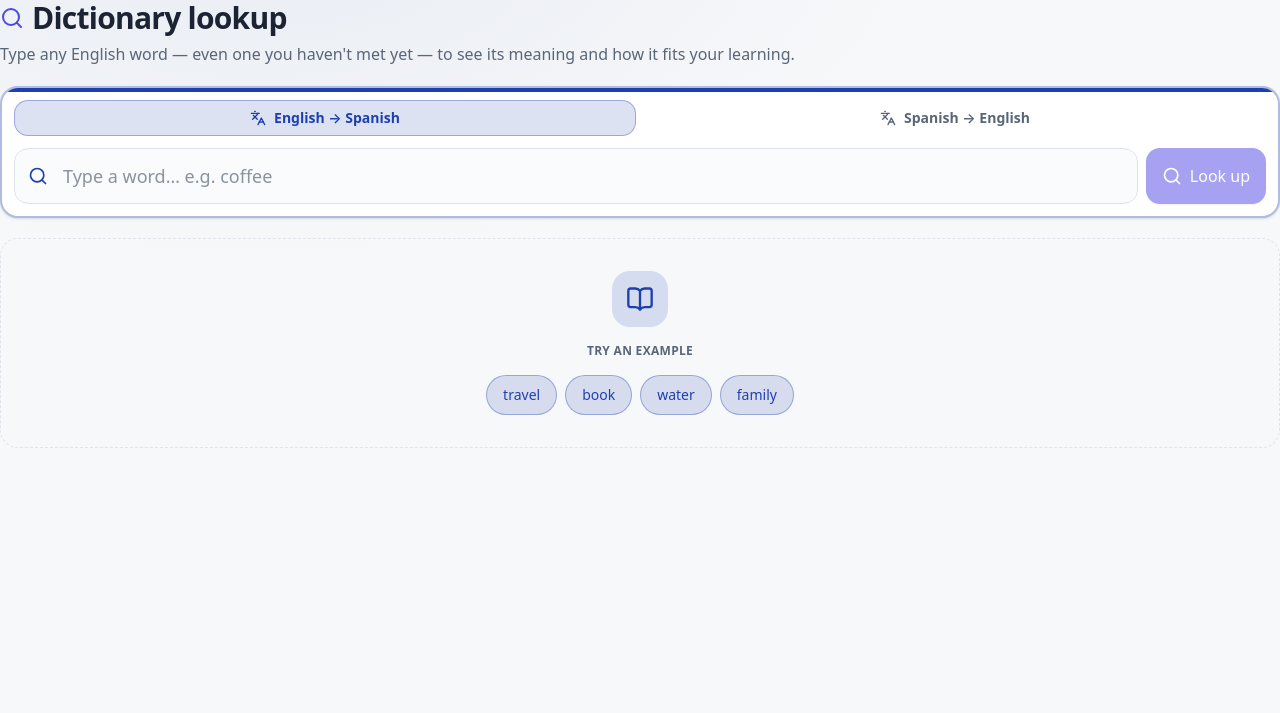
Scenario: DictionaryLookup (V3.30) › el color de la dirección marca el conmutador y la tarjeta del resultado (V3.75.8)
In the field named "Search the dictionary": (576, 176) [14, 148, 1138, 204], type "coffee"
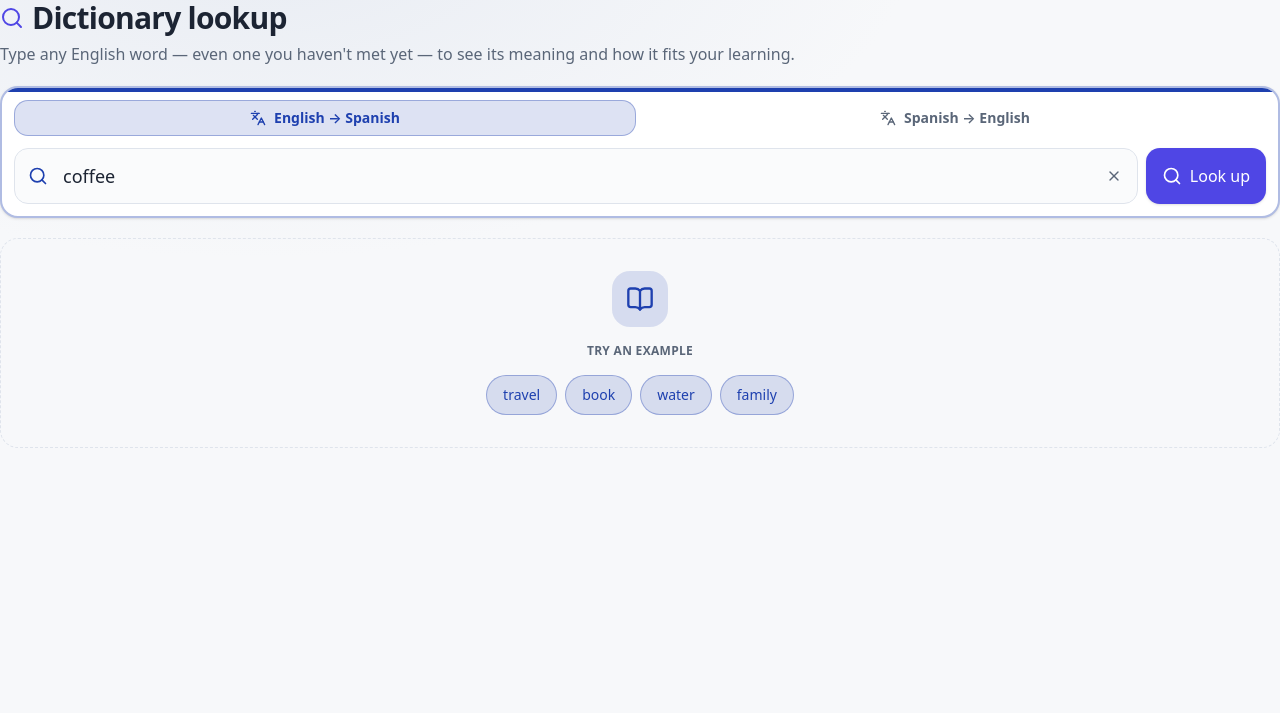
Click the button "Look up": click(1206, 176) [1146, 148, 1266, 204]
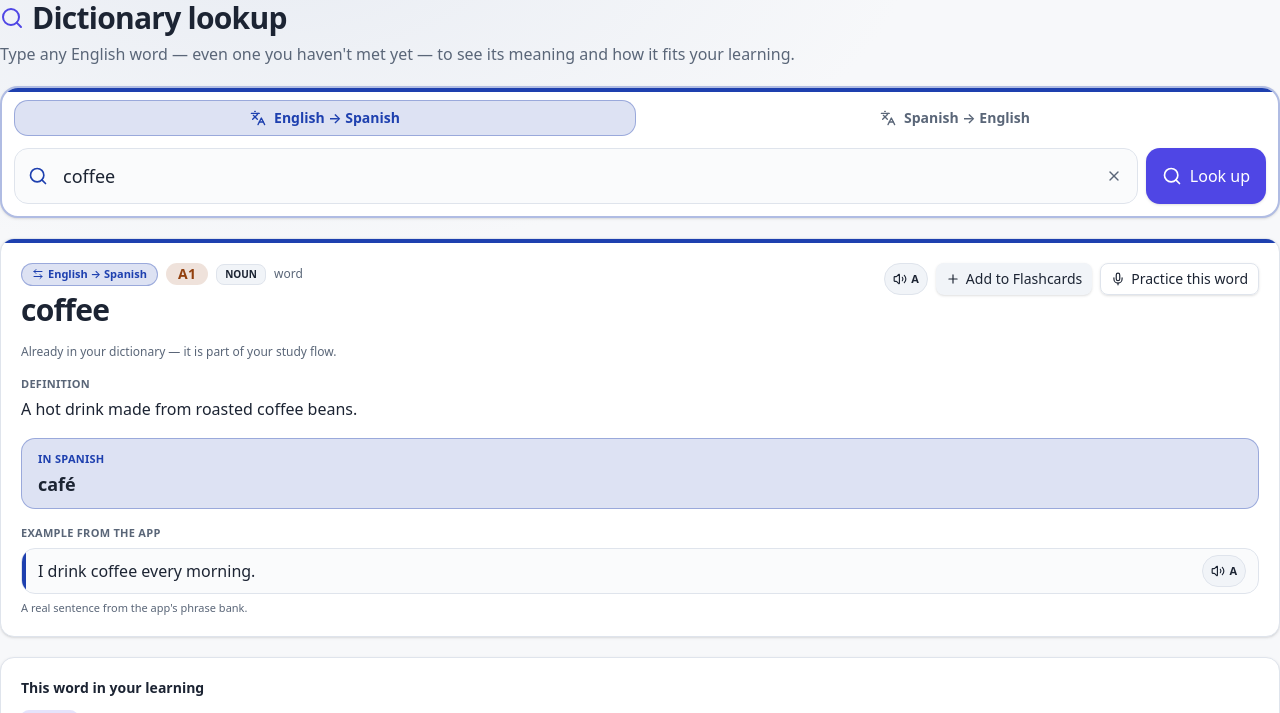
Check: the element "coffee" is shown, box [0, 238, 1279, 637]
